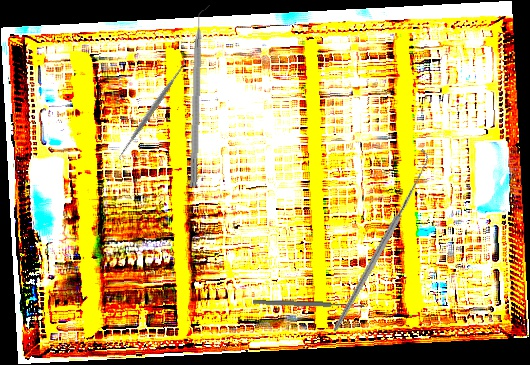Chopper: (189, 4, 214, 188)
Hook Surgical: (276, 148, 483, 334)
Spatula Surgical: (112, 55, 193, 163)
Surgical Spoon: (252, 299, 365, 309)
